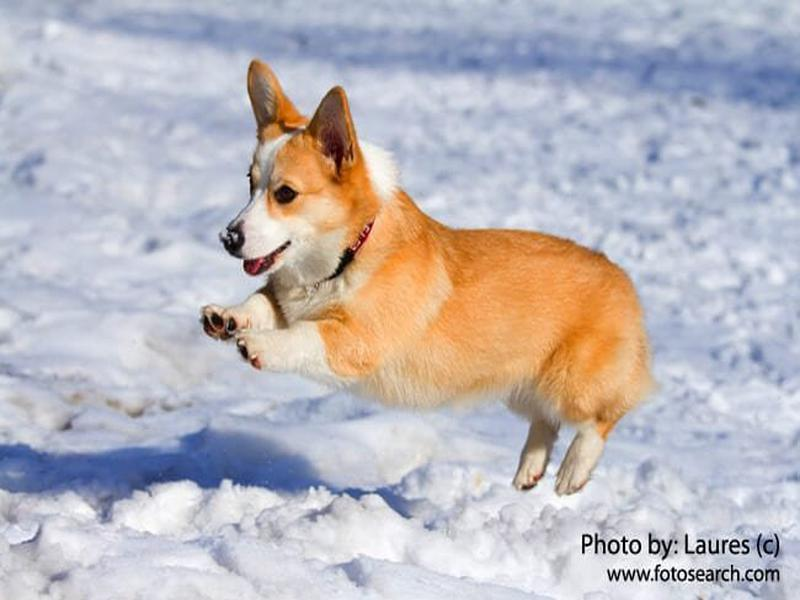corgi: (216, 58, 382, 281)
